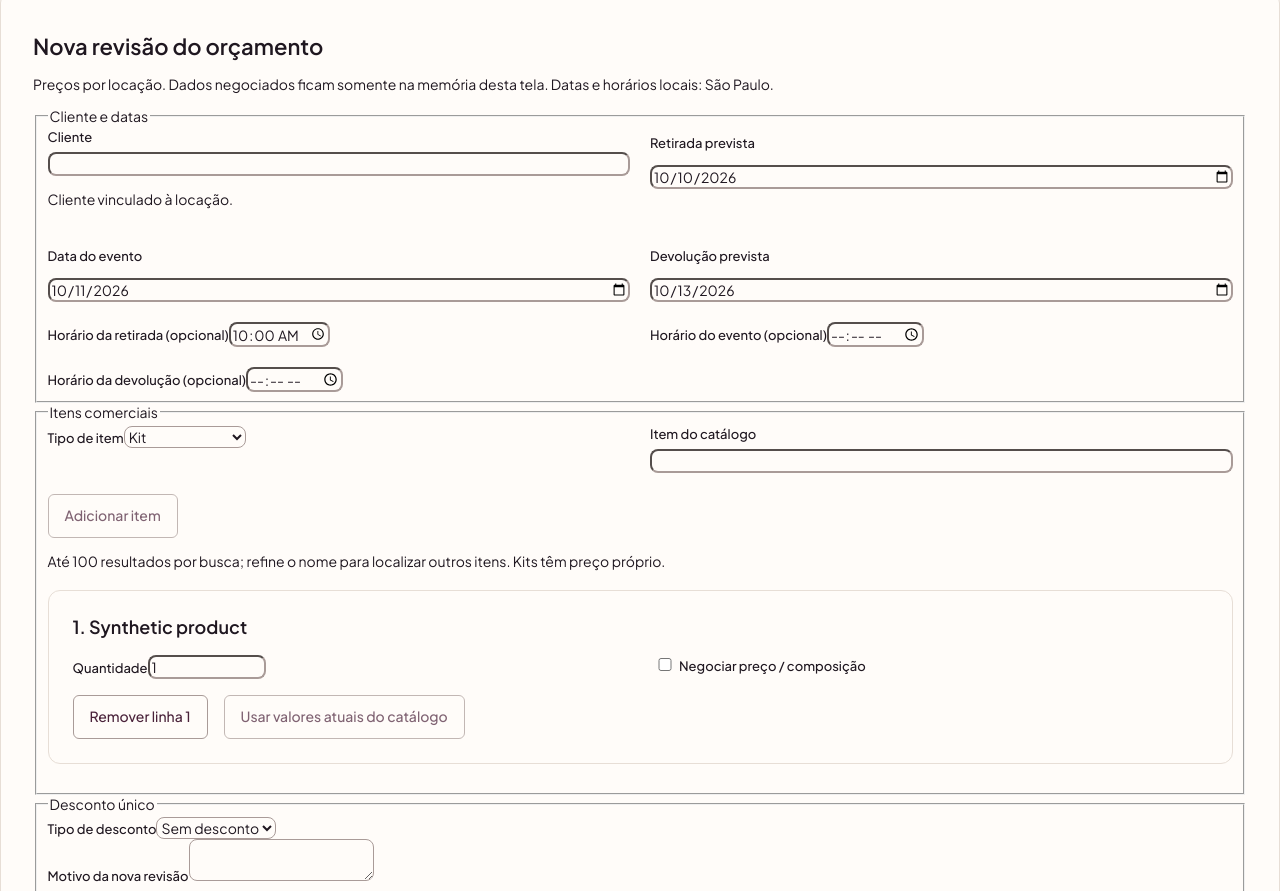
Test case: explains invalid Data do evento beside the field and does not send or save the draft
Type "Revisão sintética" into the text box labelled "Motivo da nova revisão".
click(281, 860); type("Revisão sintética")  # box [188,839,374,881]
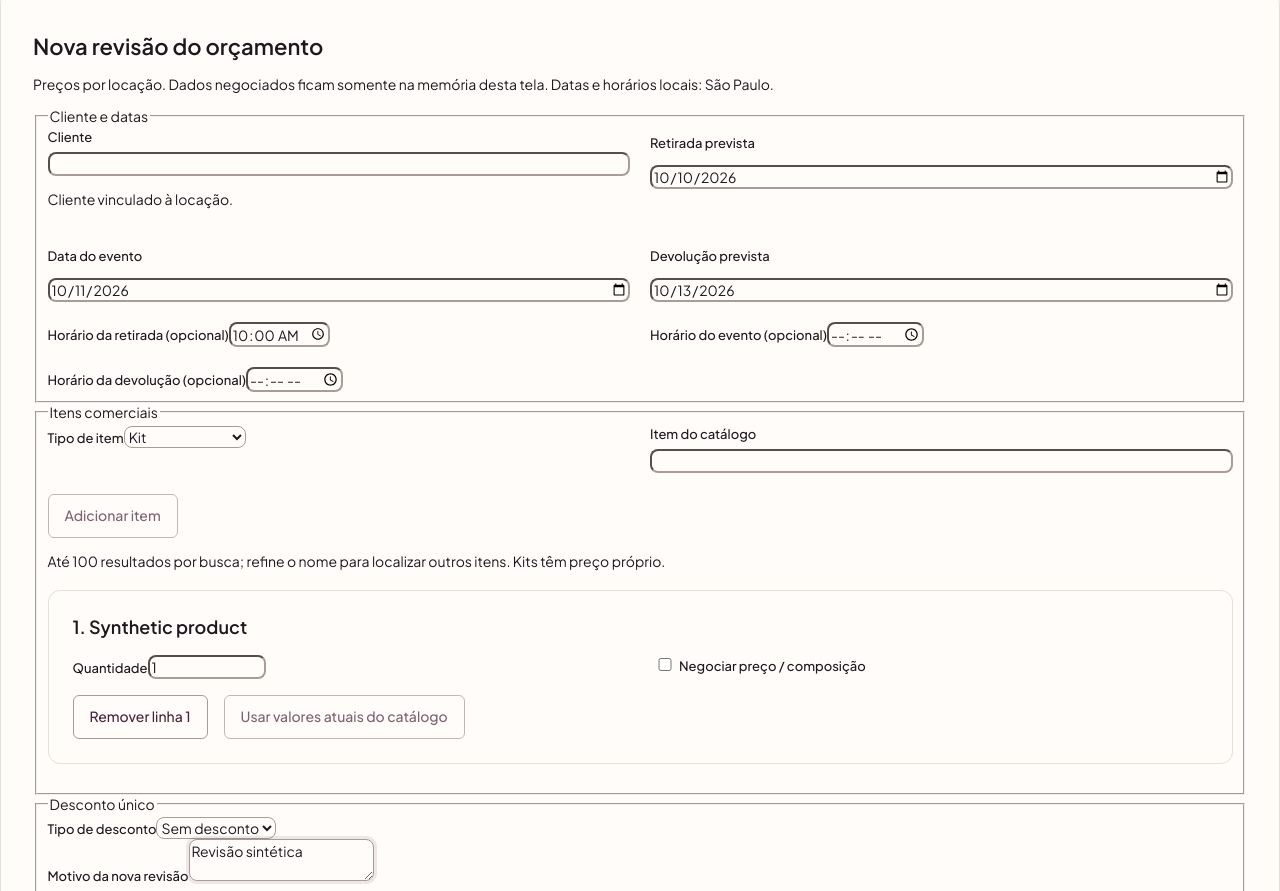
Type "2026-10-09" into the date field labelled "Data do evento".
click(339, 290); type("2026-10-09")  # box [48,278,630,302]
(page scrolled)
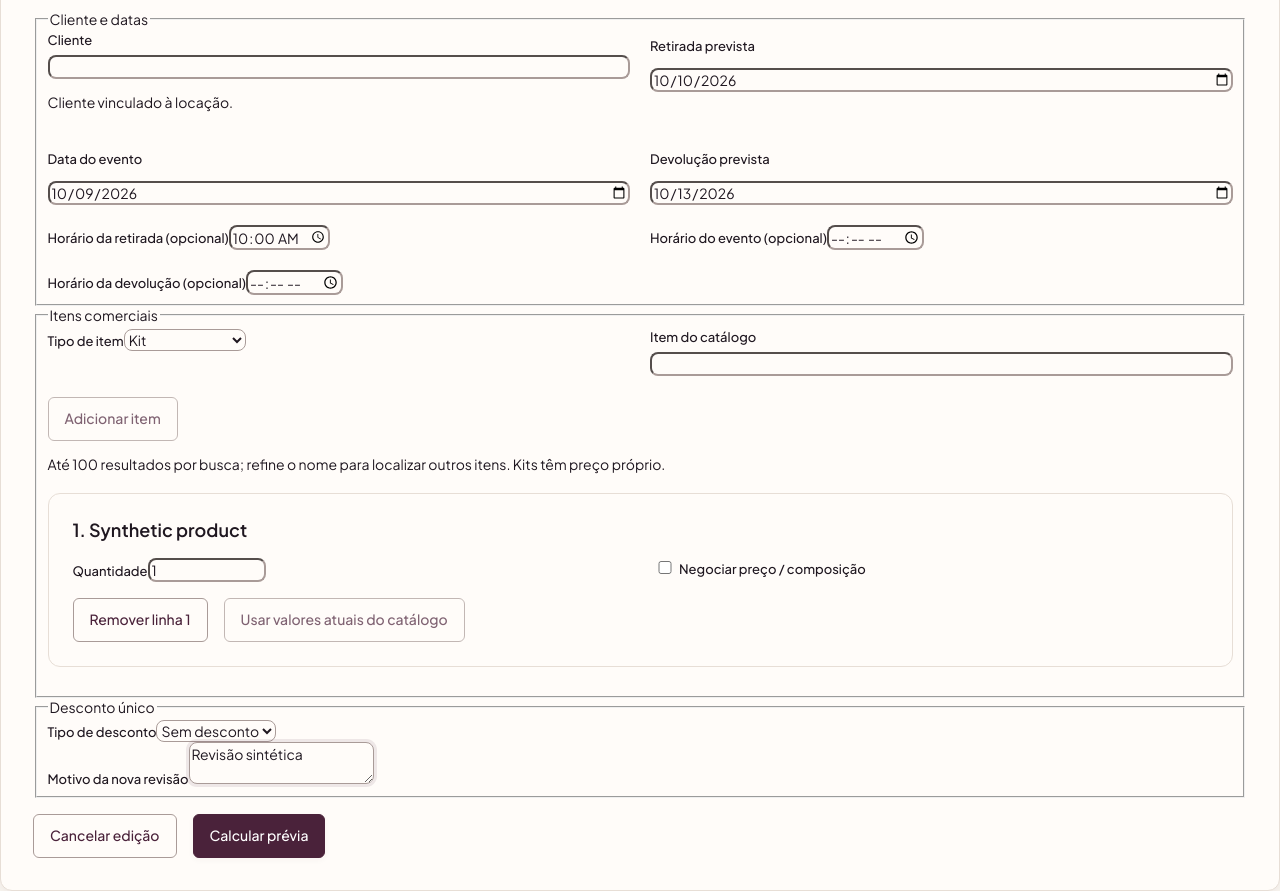
Click the button "Calcular prévia".
click(259, 836)  # box [192,814,326,858]
(page scrolled)
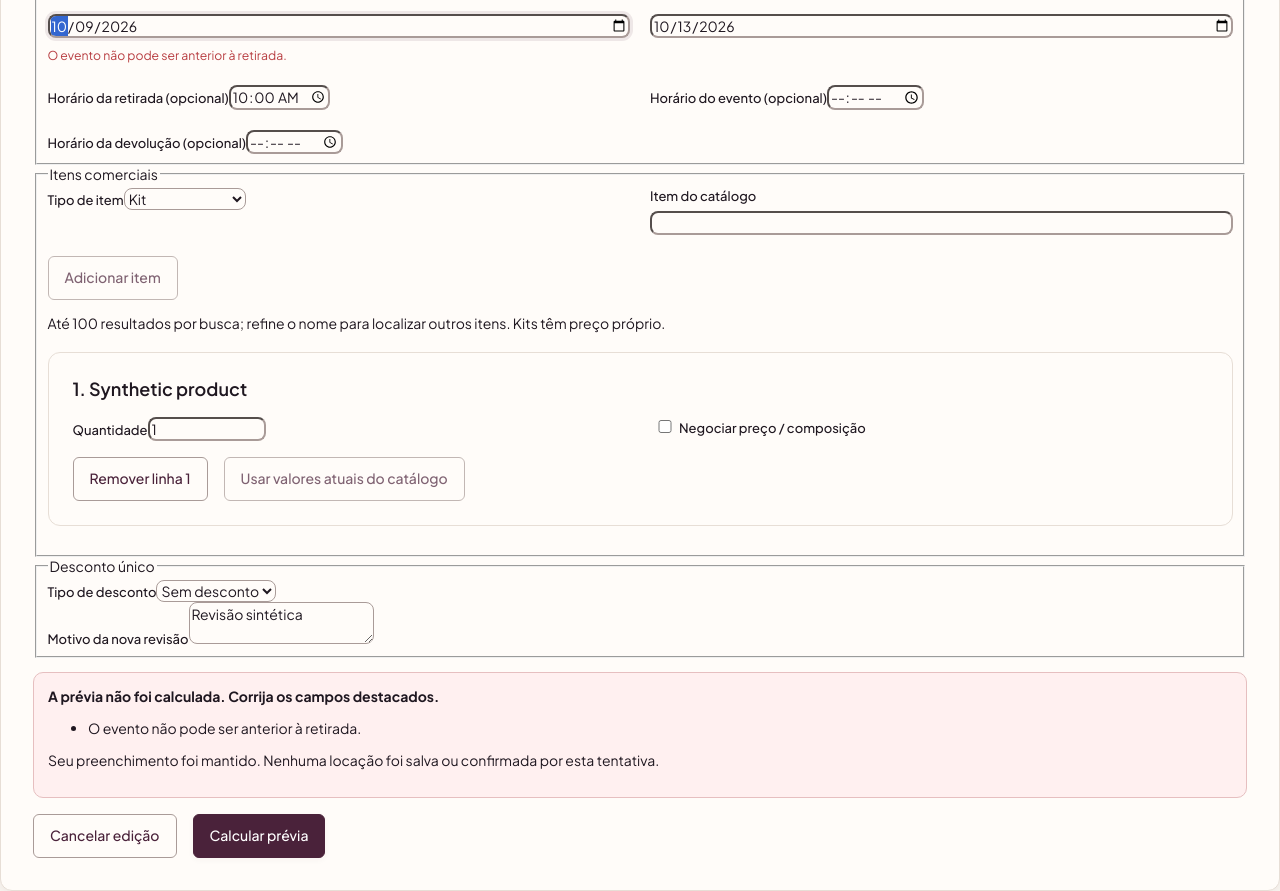
Check: the text "O evento não pode ser anterior à retirada." is shown, box [48,48,287,64]
Check: the message shows "Nenhuma locação foi salva ou confirmada", box [48,751,659,769]
